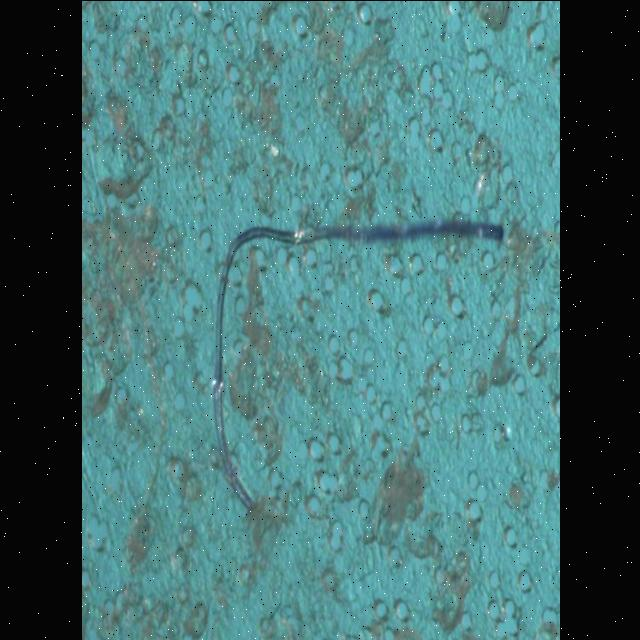Fibre: (211, 214, 504, 518)
